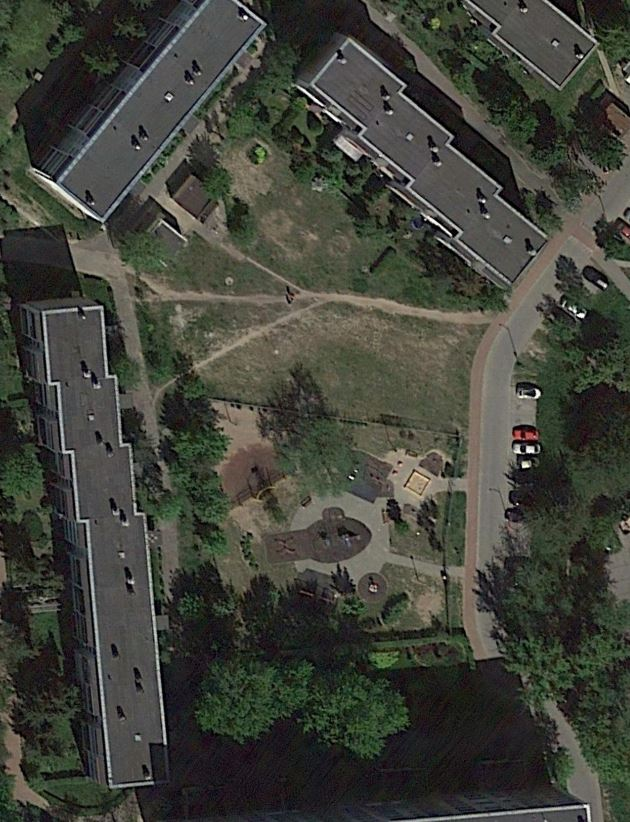block of flats: (8, 288, 191, 792), (295, 15, 551, 294), (25, 2, 276, 230), (450, 1, 607, 105)
